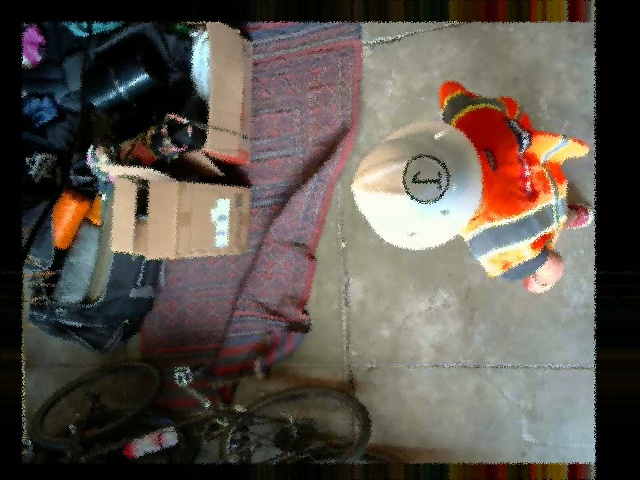one: (402, 155, 448, 202)
